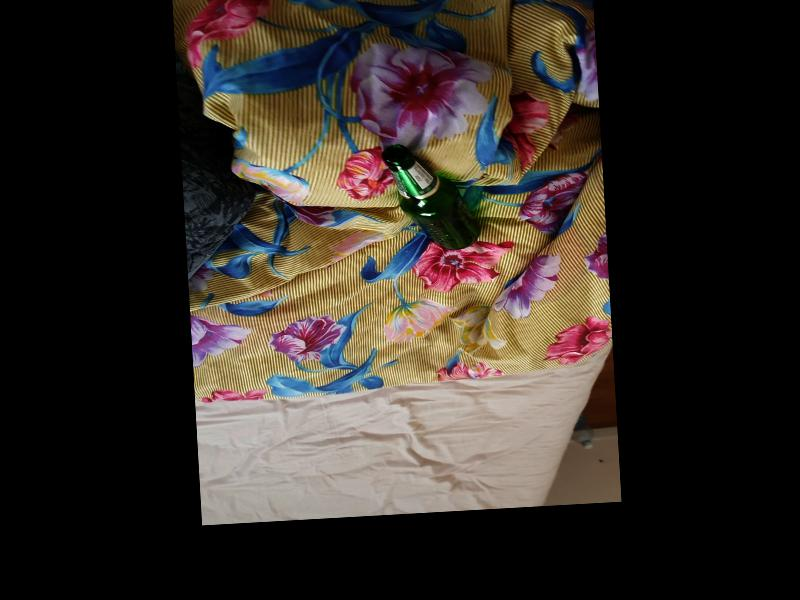Beer: (383, 138, 481, 252)
